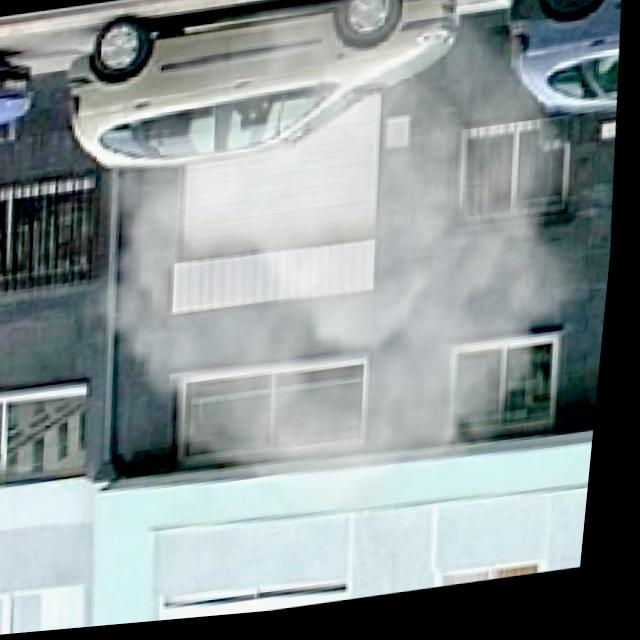no_helmet: (76, 0, 609, 549)
